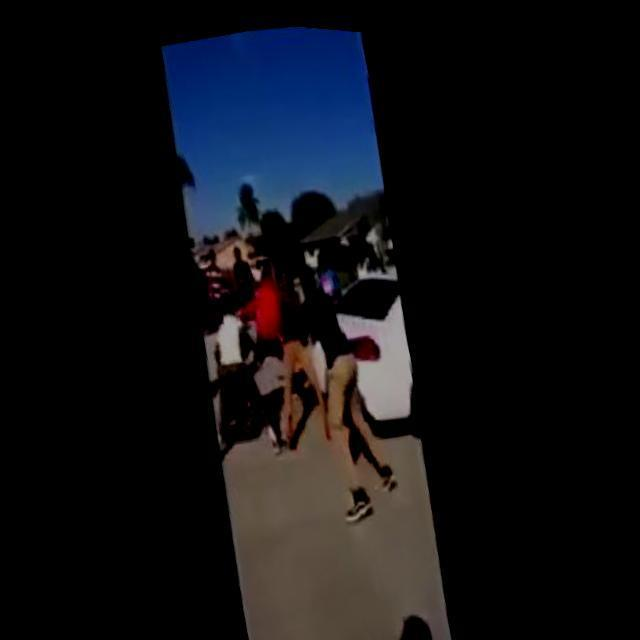fight: (241, 226, 419, 531)
